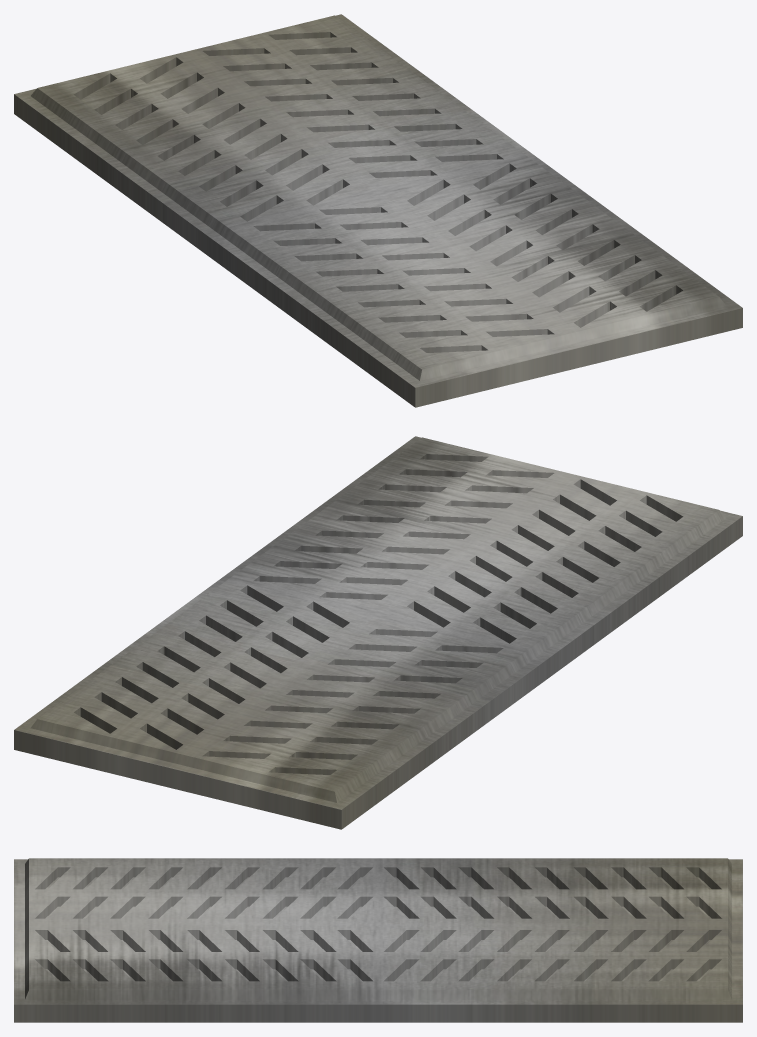
The model's file is floor2.fbx.
The picture shows the model from 3 angles, top to bottom: view 1: azimuth 30°, elevation 25°; view 2: azimuth 150°, elevation 25°; view 3: azimuth 270°, elevation 25°; orthographic projection. The views are drawn at different scales.
Visible parts, largest first — view 1: floor2; view 2: floor2; view 3: floor2.
Part boxes in pixels (box(x1,y1,x2,y2)): floor2: box(14, 14, 742, 407); floor2: box(14, 436, 742, 829); floor2: box(14, 858, 742, 1022).
Size of the model in its own units: 84.42 by 6.98 by 179.
